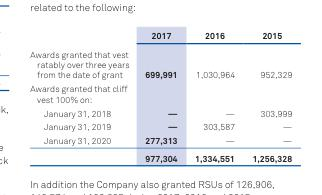table: (29, 29, 291, 163)
table column: (29, 29, 136, 163), (185, 29, 242, 163), (136, 29, 185, 163), (242, 29, 291, 163)
table column header: (29, 29, 291, 44)
table projected row header: (29, 81, 291, 105)
table row: (29, 44, 291, 81), (29, 81, 291, 105), (29, 133, 291, 149), (29, 29, 291, 44), (29, 105, 291, 119), (29, 119, 291, 133), (29, 149, 291, 163)
